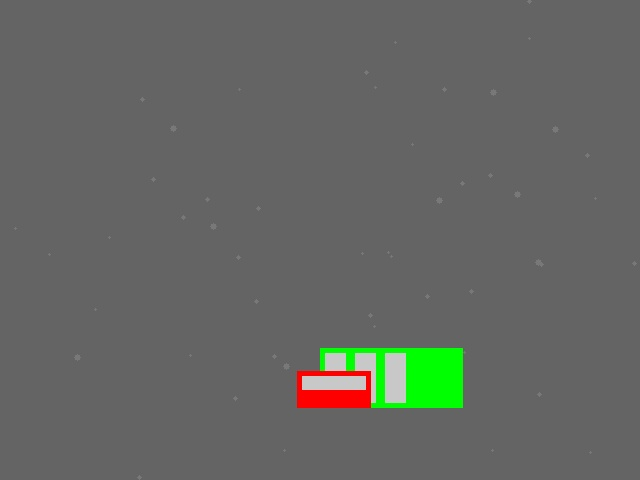bus: (320, 348, 462, 407)
car: (297, 371, 370, 407)
